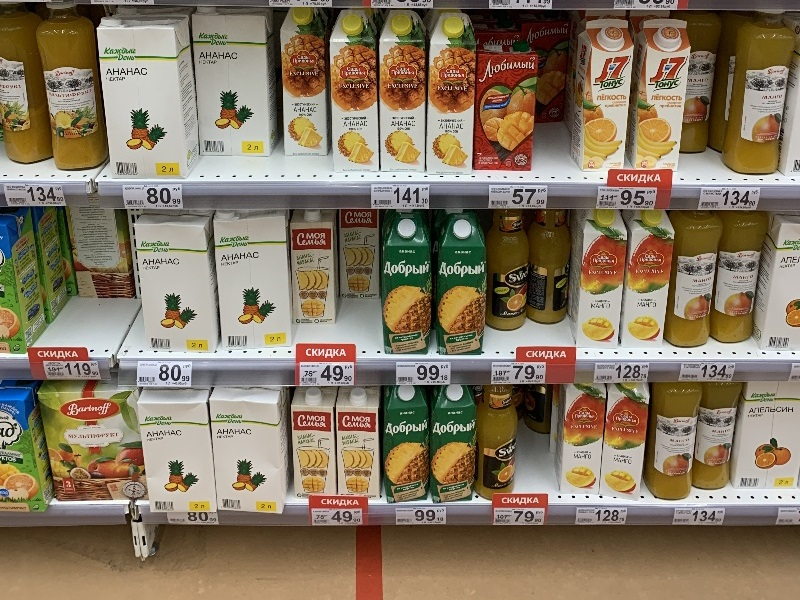juice: (270, 3, 343, 160), (370, 8, 437, 179), (466, 34, 539, 175), (568, 18, 632, 174), (327, 8, 387, 172), (626, 19, 689, 175), (422, 11, 481, 177), (433, 215, 494, 366), (371, 385, 440, 508), (380, 214, 436, 359), (423, 385, 485, 509), (623, 206, 674, 348), (576, 206, 624, 351)
